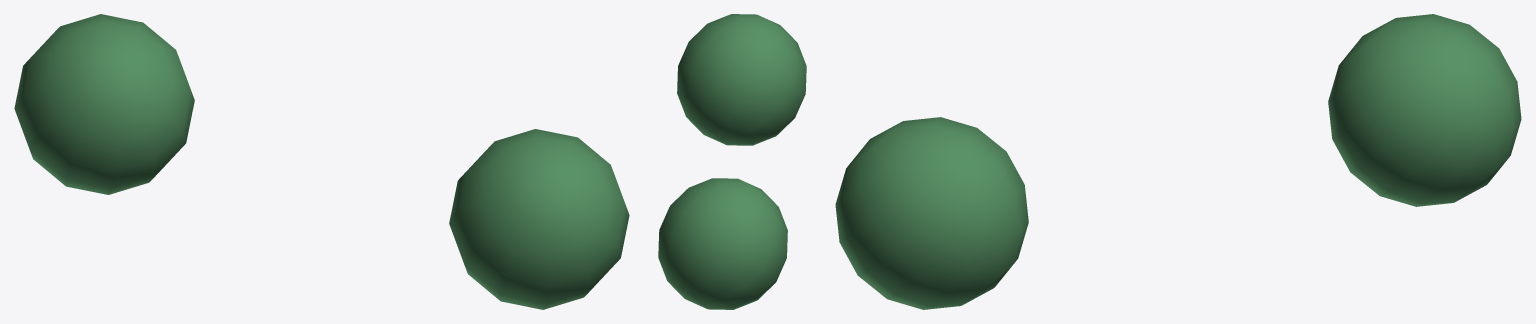
3 renders of one model, left to right at view 1: azimuth 30°, elevation 25°; view 2: azimuth 150°, elevation 25°; view 3: azimuth 270°, elevation 25°, orthographic. The views are drawn at different scales.
Parts seen in each view (by area): view 1: 盲肠前淋巴结; view 2: 盲肠前淋巴结; view 3: 盲肠前淋巴结.
Part boxes in pixels (left/top/right/bottom): 盲肠前淋巴结: left=14, top=14, right=629, bottom=309; 盲肠前淋巴结: left=658, top=14, right=806, bottom=309; 盲肠前淋巴结: left=835, top=14, right=1521, bottom=309.
Bounding box in the file's own units: 0.00872 × 0.00391 × 0.0135.
